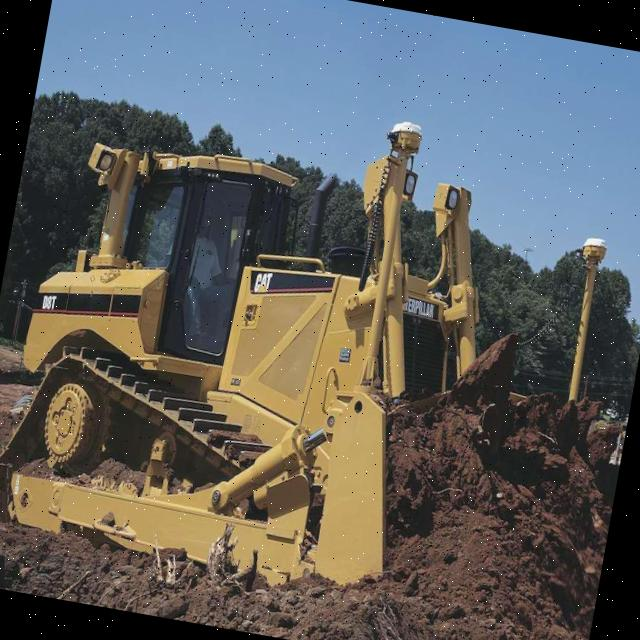Bulldozer: (0, 46, 637, 640)
